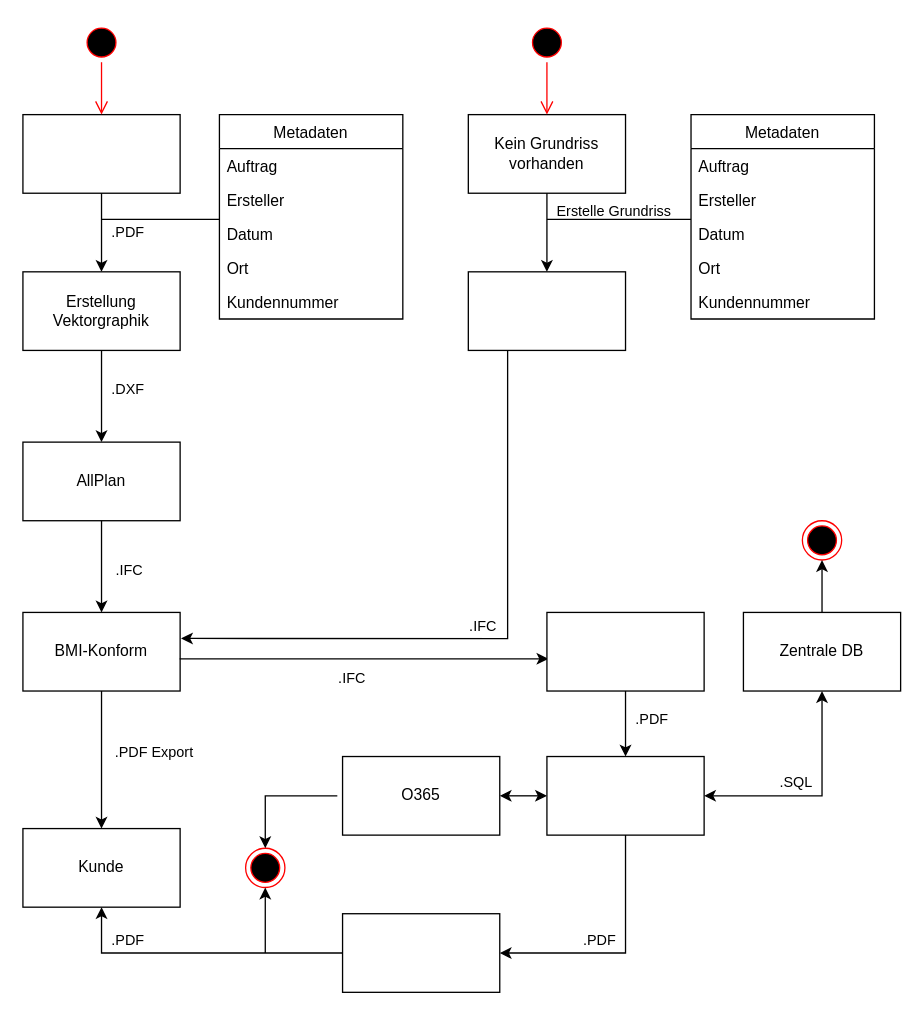
Image size: 924x1015. Some labels were removed from this diagram. The shapes that lost their labels are listed below. From the top down, each one's centre as x and y in pixels, then its label:
At pixel 101 153: "Grundriss vorhanden -> Digitalisierung".
At pixel 546 310: "Außendienstler".
At pixel 625 651: "Bearbeiter".
At pixel 625 795: "Vertrieb".
At pixel 420 952: "Angebot".
